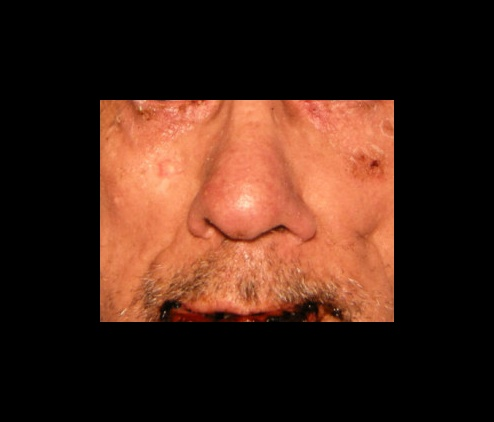SJS-TEN: (98, 98, 395, 325)
